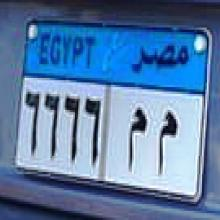6: (84, 91, 102, 167), (63, 92, 81, 166), (43, 91, 61, 160), (22, 88, 40, 155)
meem: (155, 103, 179, 178), (126, 102, 148, 174)
